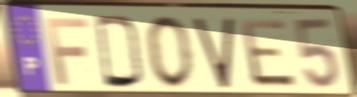5: (291, 16, 342, 92)
D: (93, 13, 146, 91)
E: (238, 17, 300, 90)
F: (43, 16, 91, 87)
O: (144, 14, 196, 91)
V: (191, 15, 235, 91)
